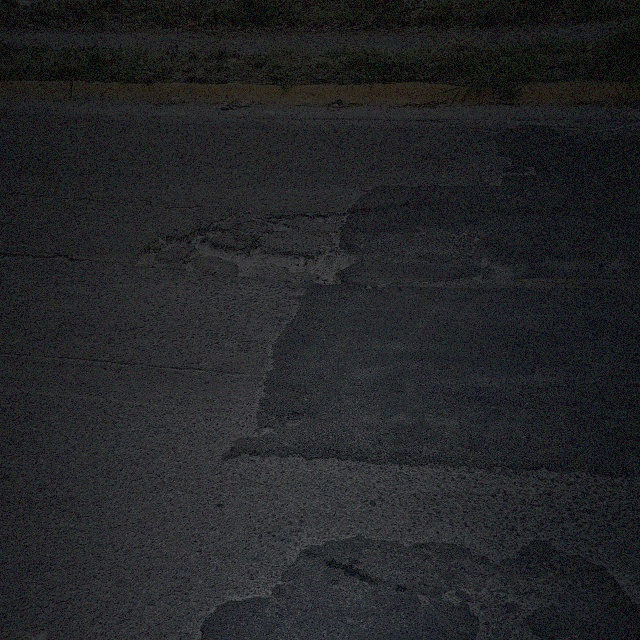pothole: (198, 242, 360, 283), (184, 224, 225, 250), (150, 236, 190, 260)
